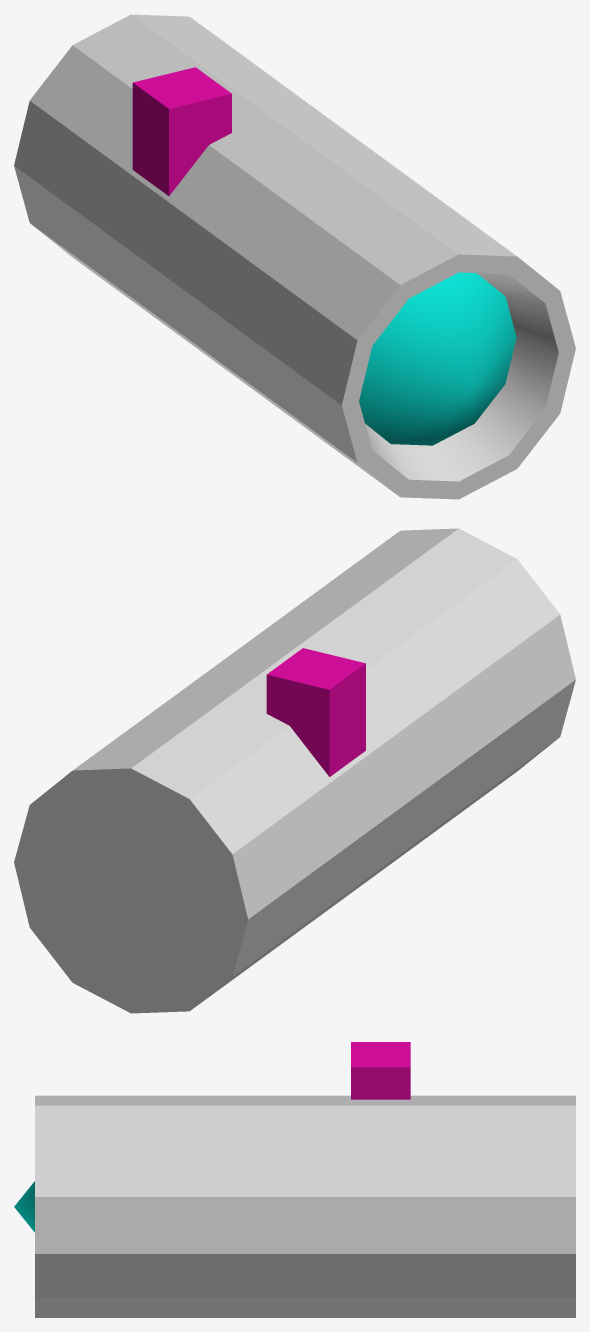
File: speedSensor.fbx
3 renders of one model, top to bottom at view 1: azimuth 30°, elevation 25°; view 2: azimuth 150°, elevation 25°; view 3: azimuth 270°, elevation 25°, orthographic. The views are drawn at different scales.
Parts seen in each view (by area): view 1: speedSensor; view 2: speedSensor; view 3: speedSensor.
Part boxes in pixels (x1=…): speedSensor: x1=14, y1=14, x2=575, y2=499; speedSensor: x1=14, y1=528, x2=575, y2=1013; speedSensor: x1=14, y1=1042, x2=575, y2=1317.
Bounding box in the file's own units: 0.6 × 0.6716 × 1.51.
